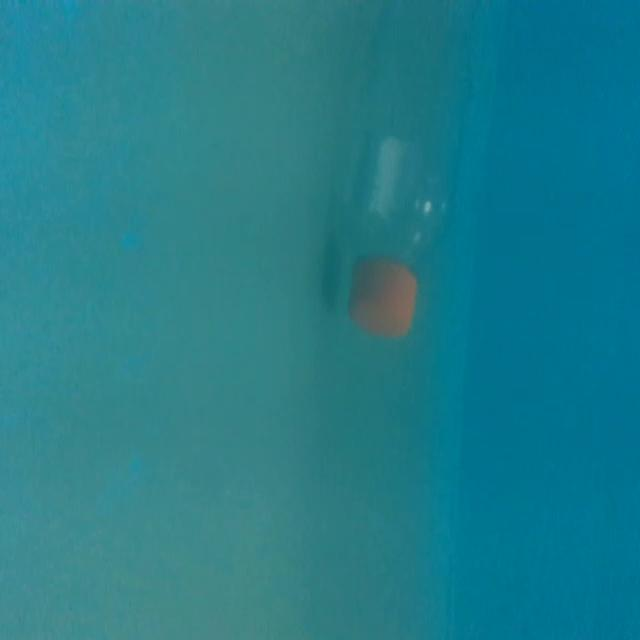plastic bottle: (334, 0, 466, 341)
